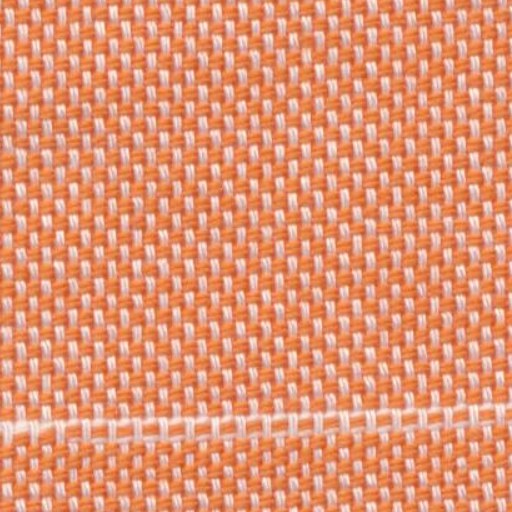TuoSha: (20, 379, 501, 452)
